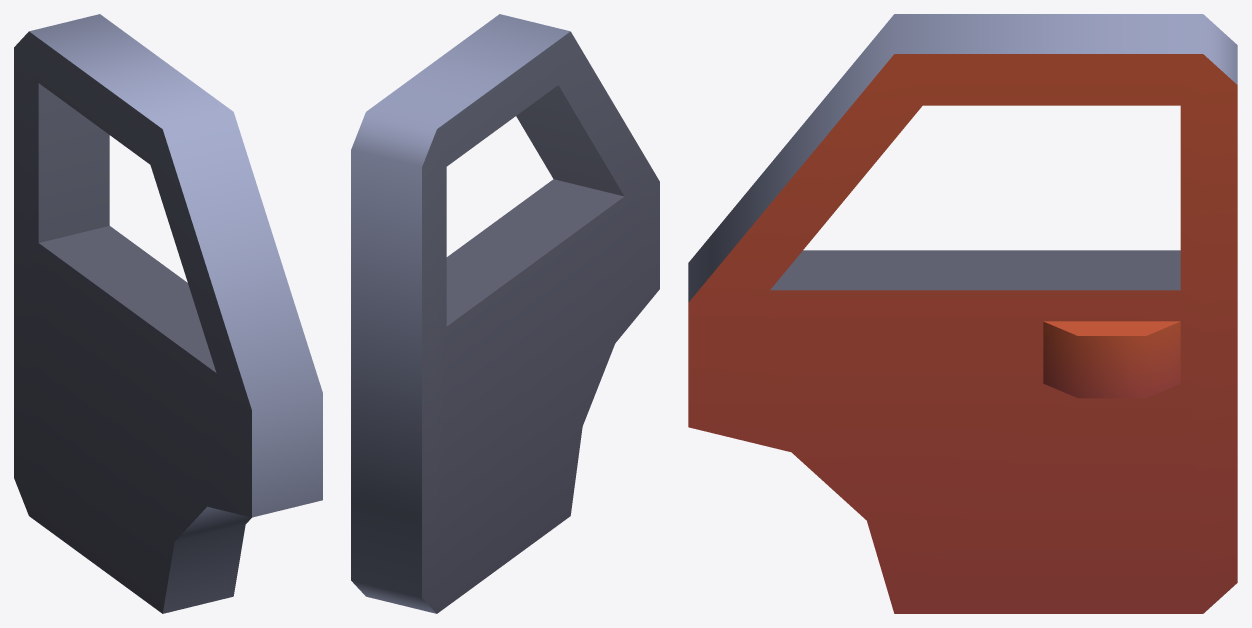
Rendered from debris-door.glb.
3 views of the same model, side by side, from view 1: azimuth 30°, elevation 25°; view 2: azimuth 150°, elevation 25°; view 3: azimuth 270°, elevation 25° (orthographic). The views are drawn at different scales.
Parts seen in each view (by area): view 1: debris-door; view 2: debris-door; view 3: debris-door.
Boxes of the visible parts, x1,y1,x2,y2 form: debris-door: [14, 14, 322, 613]; debris-door: [351, 14, 659, 613]; debris-door: [688, 14, 1237, 613].
Size of the model in its own units: 0.188 by 0.9 by 0.8.
